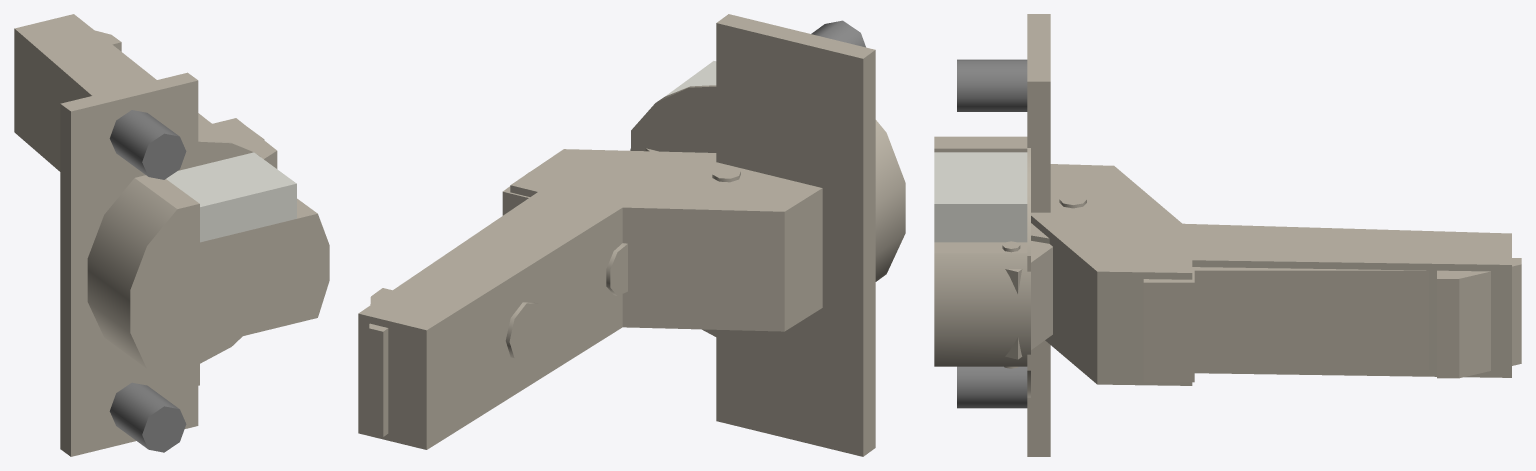
3 views of the same model, side by side, from view 1: azimuth 30°, elevation 25°; view 2: azimuth 150°, elevation 25°; view 3: azimuth 270°, elevation 25° (orthographic). The views are drawn at different scales.
Visible parts, largest first — view 1: bau2460033743-1, bau2460703727-1; view 2: bau2460703727-1, bau2460033743-1, bau0019426112-1; view 3: bau2460703727-1, bau0019426112-1, bau2460033743-1, bau2460027380-1.
Part boxes in pixels (x1,y1,x2,y2): bau2460033743-1: (60,72,329,456); bau2460703727-1: (14,14,277,171); bau2460703727-1: (358,149,822,449); bau2460033743-1: (630,14,905,456); bau0019426112-1: (369,172,529,436); bau2460703727-1: (1031,164,1511,385); bau0019426112-1: (1143,258,1521,382); bau2460033743-1: (934,14,1050,456); bau2460027380-1: (1005,223,1052,359).
Size of the model in its own units: 42.6 by 57 by 80.8.
